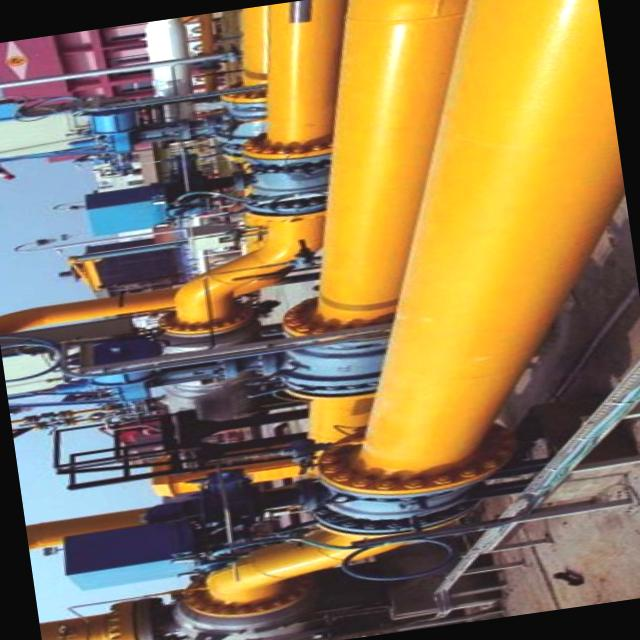gas: (208, 0, 623, 603), (301, 0, 461, 454), (174, 0, 340, 336), (0, 290, 173, 337), (26, 505, 152, 551), (232, 5, 266, 136), (40, 608, 146, 640)
